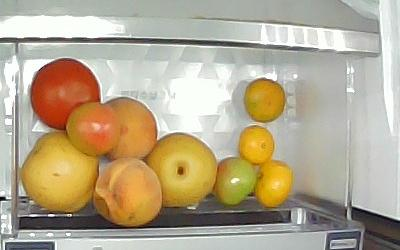peach: (93, 158, 162, 227), (99, 98, 156, 159)
pear: (21, 132, 98, 211), (147, 133, 217, 207)
tangerine: (245, 77, 287, 123), (255, 159, 295, 207), (238, 124, 277, 165)
tomato: (31, 58, 101, 130), (68, 102, 121, 157), (216, 157, 257, 206)
